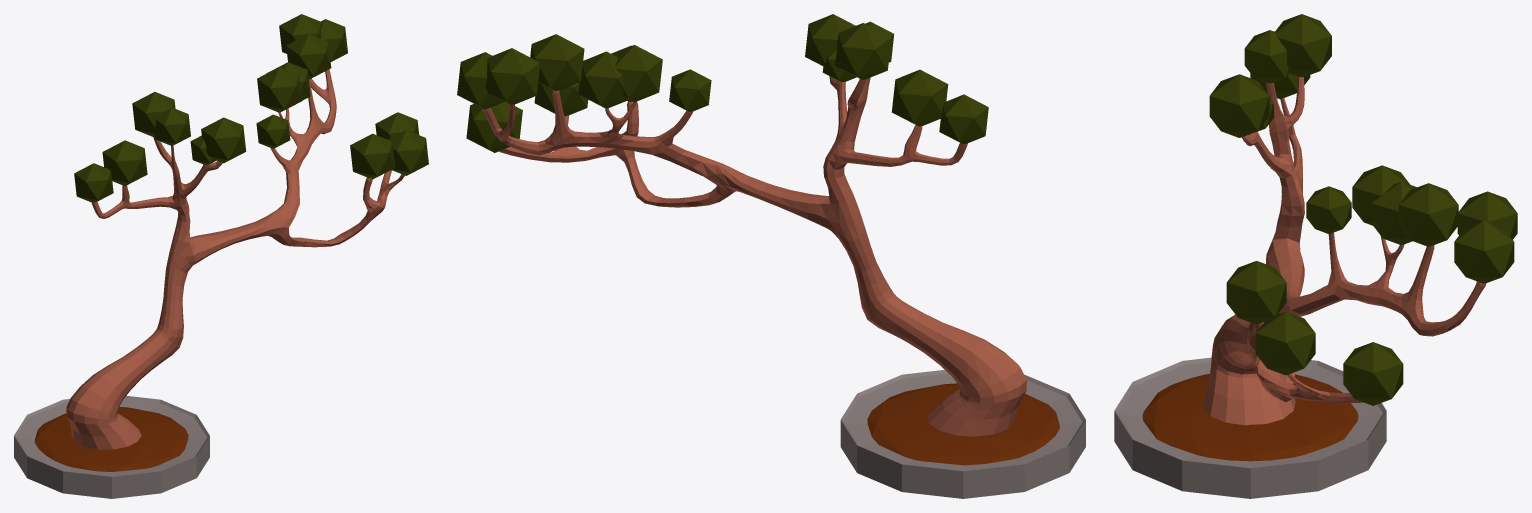
The model's file is tree2.dae.
The picture shows the model from 3 angles, left to right: view 1: azimuth 30°, elevation 25°; view 2: azimuth 150°, elevation 25°; view 3: azimuth 270°, elevation 25°; orthographic projection. The views are drawn at different scales.
Visible parts, largest first — view 1: Cylinder_001, Cylinder, Icosphere_001, Icosphere_002, Icosphere_009, Icosphere_012, Icosphere_011, Icosphere_007, Icosphere_003, Icosphere_013, Icosphere_016, Icosphere_017 (+5 smaller); view 2: Cylinder_001, Cylinder, Icosphere_001, Icosphere_016, Icosphere_006, Icosphere_011, Icosphere_007, Icosphere_009, Icosphere_008, Icosphere_013, Icosphere_004, Icosphere_005 (+3 smaller); view 3: Cylinder_001, Cylinder, Icosphere_001, Icosphere_003, Icosphere_004, Icosphere_012, Icosphere_007, Icosphere_002, Icosphere_005, Icosphere_016, Icosphere_017, Icosphere_006 (+4 smaller).
Part boxes in pixels (x1,y1,x2,y2): Cylinder_001: [66, 69, 404, 449]; Cylinder: [14, 395, 209, 498]; Icosphere_001: [34, 407, 188, 471]; Icosphere_002: [350, 133, 395, 179]; Icosphere_009: [257, 67, 301, 112]; Icosphere_012: [201, 117, 246, 163]; Icosphere_011: [102, 140, 147, 185]; Icosphere_007: [286, 34, 331, 79]; Icosphere_003: [388, 130, 428, 175]; Icosphere_013: [74, 163, 113, 202]; Icosphere_016: [132, 92, 175, 136]; Icosphere_017: [154, 107, 190, 145]; Cylinder_001: [483, 76, 1026, 436]; Cylinder: [840, 369, 1085, 498]; Icosphere_001: [867, 383, 1059, 465]; Icosphere_016: [835, 23, 891, 79]; Icosphere_006: [485, 48, 540, 104]; Icosphere_011: [891, 69, 948, 126]; Icosphere_007: [530, 34, 584, 90]; Icosphere_009: [612, 45, 662, 102]; Icosphere_008: [578, 51, 629, 108]; Icosphere_013: [939, 94, 988, 144]; Icosphere_004: [466, 102, 522, 152]; Icosphere_005: [457, 52, 504, 109]; Cylinder_001: [1203, 76, 1486, 425]; Cylinder: [1114, 357, 1386, 498]; Icosphere_001: [1142, 374, 1358, 461]; Icosphere_003: [1255, 311, 1315, 375]; Icosphere_004: [1343, 342, 1403, 405]; Icosphere_012: [1209, 74, 1269, 137]; Icosphere_007: [1398, 183, 1458, 246]; Icosphere_002: [1226, 261, 1286, 324]; Icosphere_005: [1454, 220, 1514, 283]; Icosphere_016: [1275, 14, 1331, 77]; Icosphere_017: [1244, 30, 1289, 83]; Icosphere_006: [1457, 191, 1517, 239].
Size of the model in its own units: 5.12 by 2.96 by 3.8.
